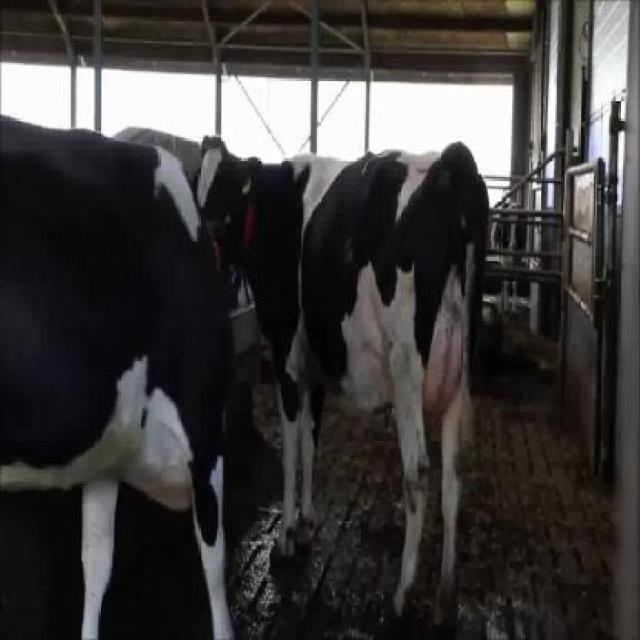Cow: (191, 132, 491, 626), (0, 112, 237, 638)
